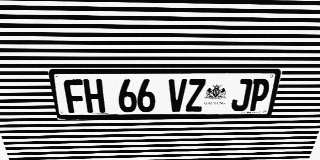6: (117, 79, 137, 112), (137, 79, 155, 112)
F: (63, 79, 87, 113)
H: (83, 79, 105, 113)
J: (230, 79, 253, 111)
P: (247, 79, 271, 111)
V: (168, 79, 187, 112)
Z: (185, 79, 206, 112)
